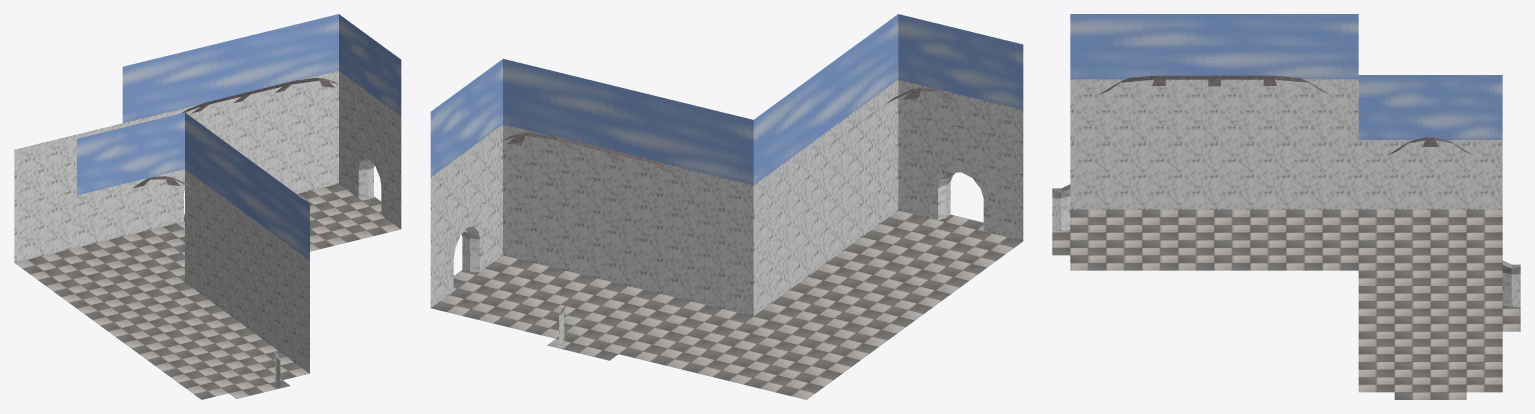
Rendered from Hallway10.glb.
3 views of the same model, side by side, from view 1: azimuth 30°, elevation 25°; view 2: azimuth 150°, elevation 25°; view 3: azimuth 270°, elevation 25° (orthographic). The views are drawn at different scales.
Visible parts, largest first — view 1: Walls.009, Sky.008, Floor.008, Ceiling.009; view 2: Walls.009, Floor.008, Sky.008, Ceiling.009; view 3: Walls.009, Floor.008, Sky.008, Ceiling.009.
Boxes of the visible parts, x1,y1,x2,y2 form: Walls.009: (14, 70, 401, 387); Sky.008: (77, 14, 401, 260); Floor.008: (15, 183, 400, 399); Ceiling.009: (132, 77, 340, 220); Walls.009: (430, 79, 1023, 347); Floor.008: (431, 210, 1022, 399); Sky.008: (430, 14, 1023, 185); Ceiling.009: (501, 88, 958, 175); Walls.009: (1052, 79, 1520, 306); Floor.008: (1052, 209, 1520, 399); Sky.008: (1070, 14, 1502, 139); Ceiling.009: (1099, 75, 1474, 155).
Bounding box in the file's own units: 12.5 × 6 × 13.
Materials: 4 (4 with a texture image).
